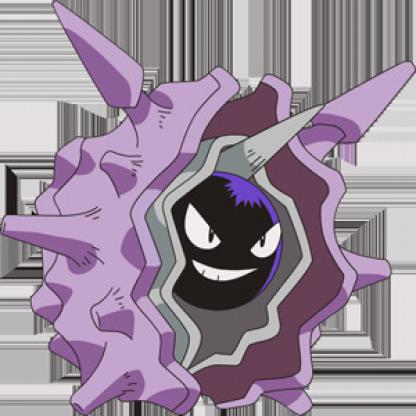Cloyster: (1, 1, 416, 416)
